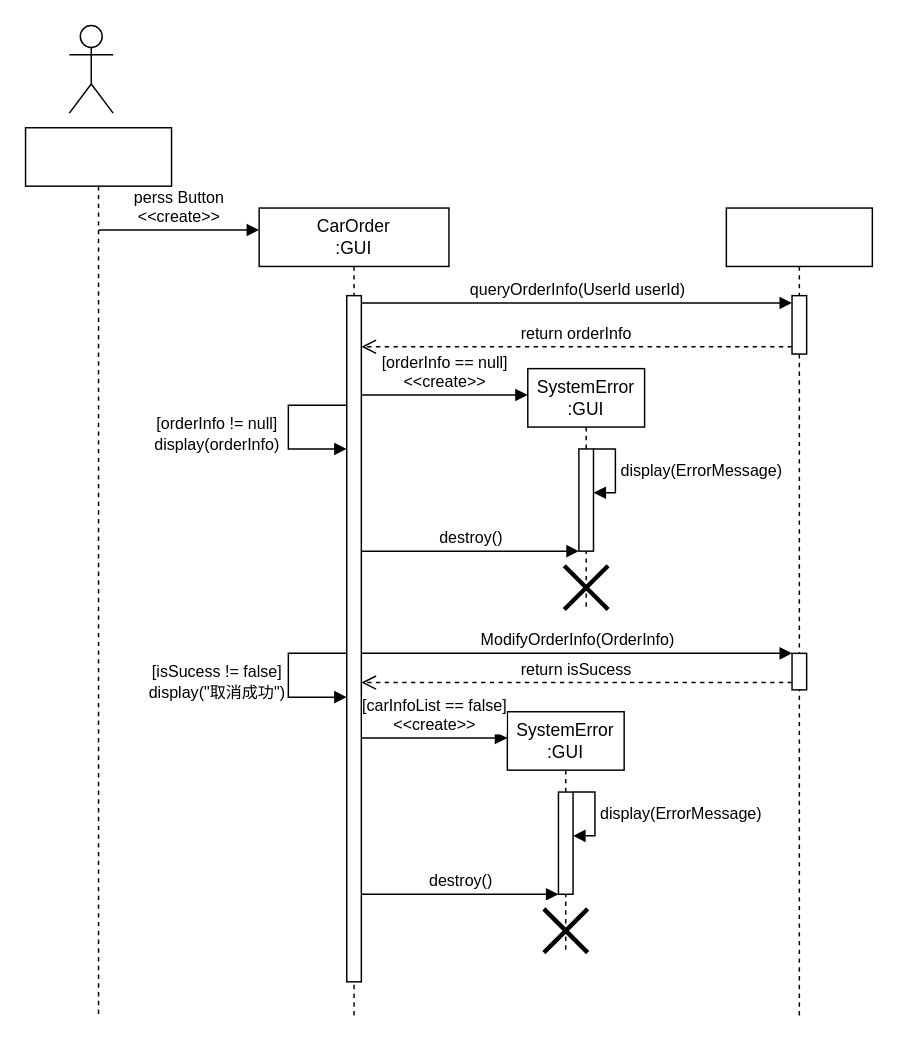
Image size: 898x1044. Some labels were removed from this diagram. The shapes that lost their labels are listed below. From the top down, each one's box as (x1, y1, x2, y2) in pixels, then its label:
(24, 126, 172, 1018): User
(725, 207, 872, 1018): :System
